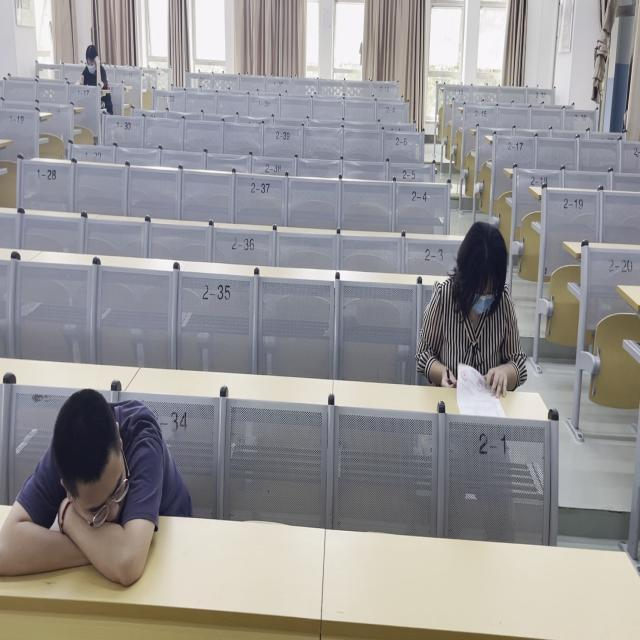sleep: (0, 383, 190, 582)
study: (420, 220, 528, 400), (82, 47, 107, 87)
